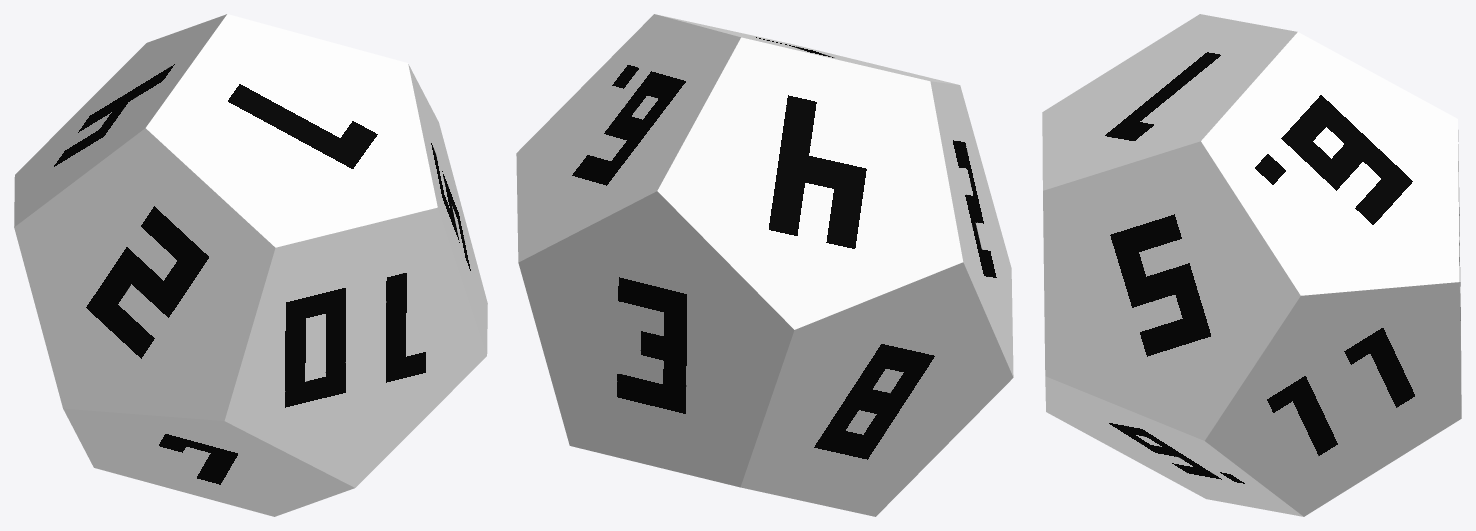
3 views of the same model, side by side, from view 1: azimuth 30°, elevation 25°; view 2: azimuth 150°, elevation 25°; view 3: azimuth 270°, elevation 25° (orthographic). The views are drawn at different scales.
Parts seen in each view (by area): view 1: MeshBody1; view 2: MeshBody1; view 3: MeshBody1.
Boxes of the visible parts, left/top/right/bottom form: MeshBody1: left=14, top=14, right=487, bottom=516; MeshBody1: left=516, top=14, right=1013, bottom=516; MeshBody1: left=1042, top=14, right=1461, bottom=516.
Size of the model in its own units: 0.2113 by 0.2224 by 0.1811.
